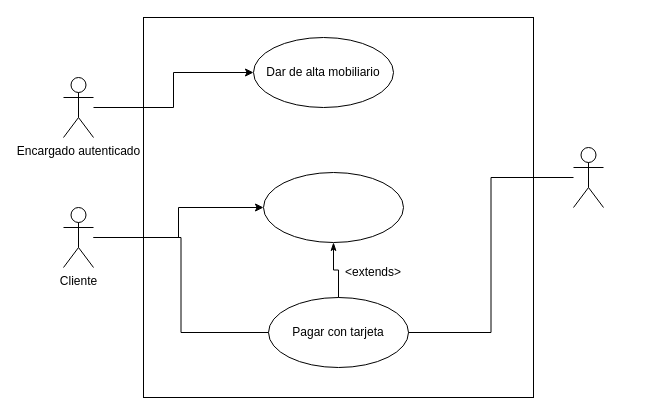
The diagram is 653 pixels wide and 415 high, and some of its shapes have lost their labels. Here are the shapes that lost their labels. From the top down, the centre of each, then its label:
At point (588, 177): "Servicio de banco".
At point (333, 207): "Reservar mueble".
